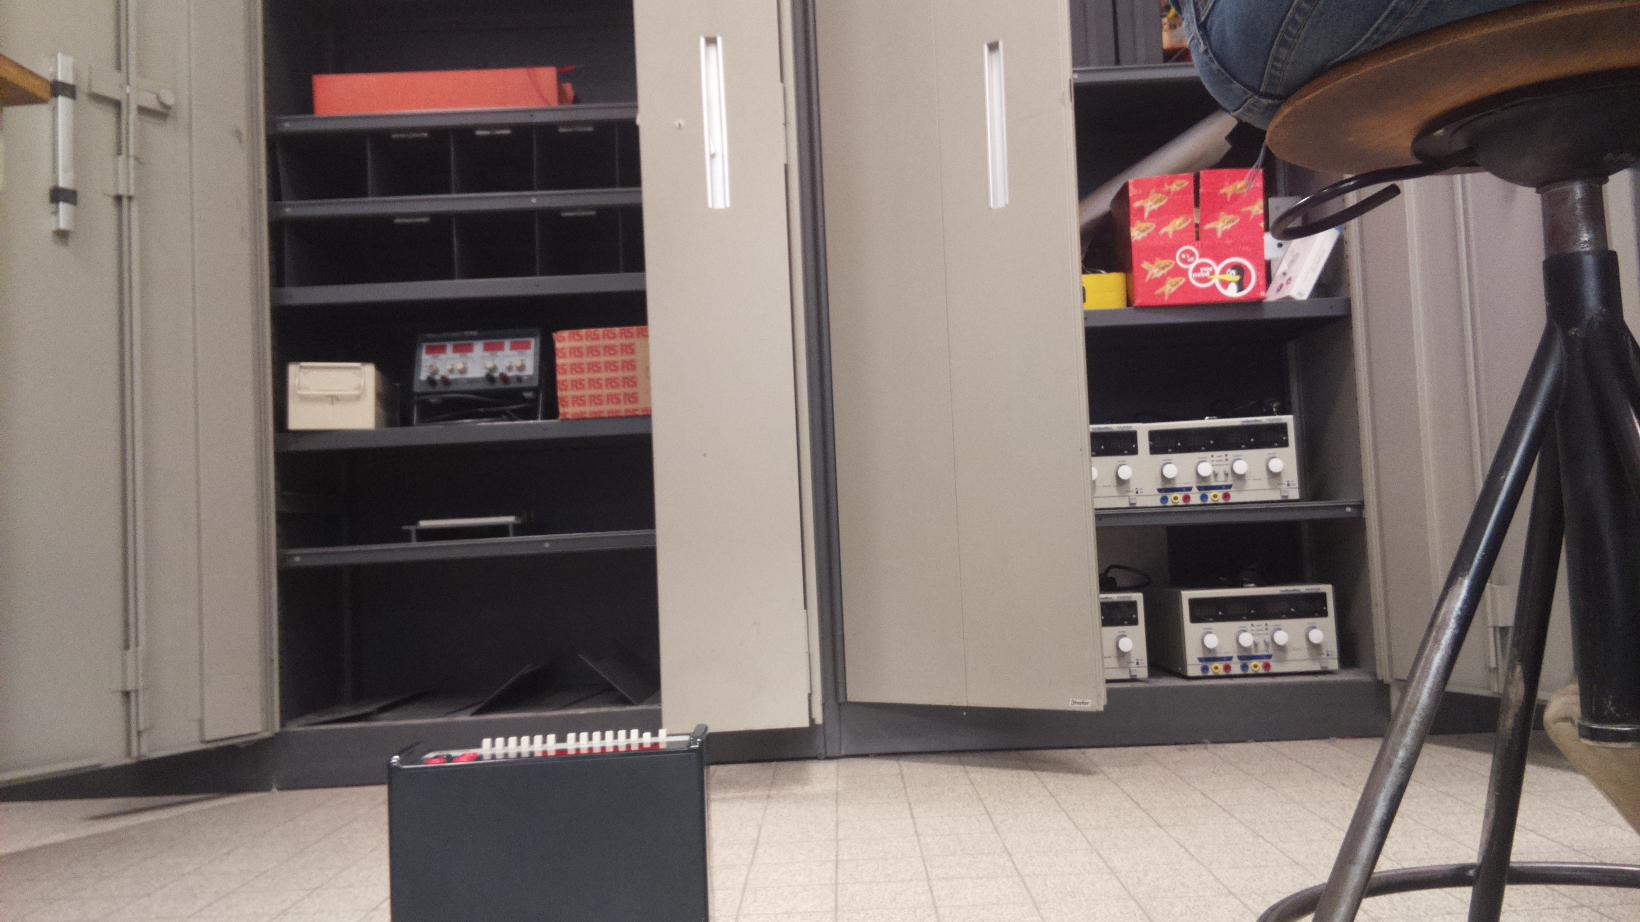medium: (386, 734, 710, 922)
